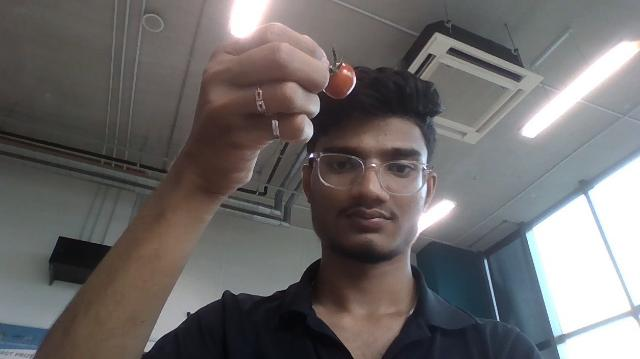Fully Grown: (322, 60, 357, 101), (323, 61, 358, 100)
